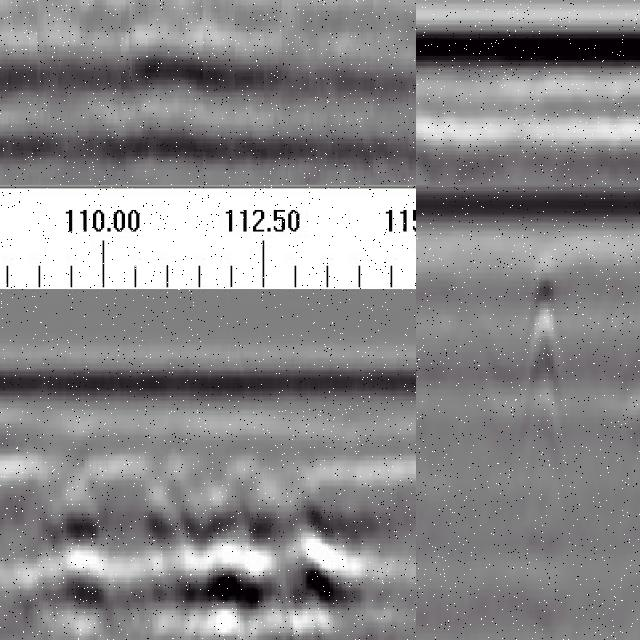crack: (511, 244, 570, 464)
loose: (41, 453, 358, 640)
